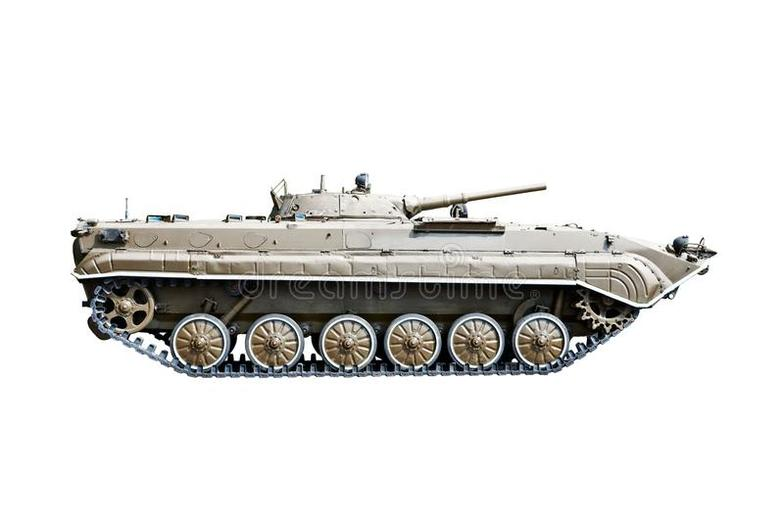bmp: (71, 188, 714, 378)
